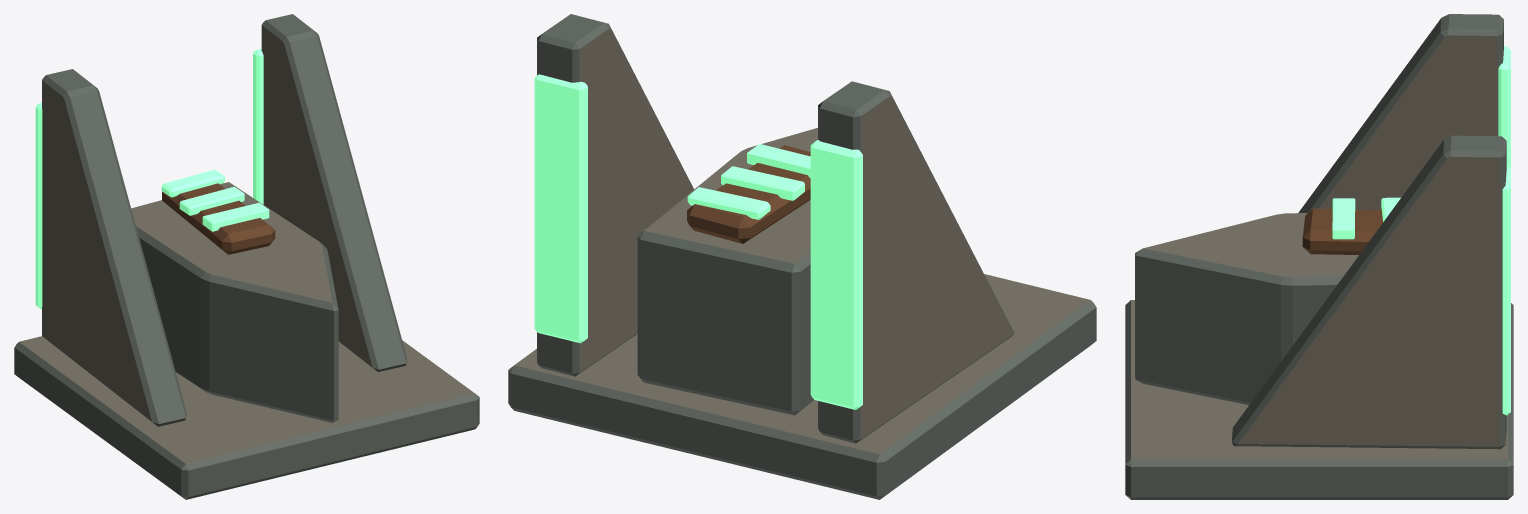
Rendered from R4X_MobilityBooster_LOD1.fbx.
The picture shows the model from 3 angles, left to right: view 1: azimuth 30°, elevation 25°; view 2: azimuth 150°, elevation 25°; view 3: azimuth 270°, elevation 25°; orthographic projection. The views are drawn at different scales.
Parts seen in each view (by area): view 1: R4X_MobilityBooster_LOD1; view 2: R4X_MobilityBooster_LOD1; view 3: R4X_MobilityBooster_LOD1.
Part boxes in pixels (x1,y1,x2,y2): R4X_MobilityBooster_LOD1: (14,14,479,499); R4X_MobilityBooster_LOD1: (508,14,1096,499); R4X_MobilityBooster_LOD1: (1125,14,1513,499).
Bounding box in the file's own units: 0.52 × 0.5 × 0.52.
